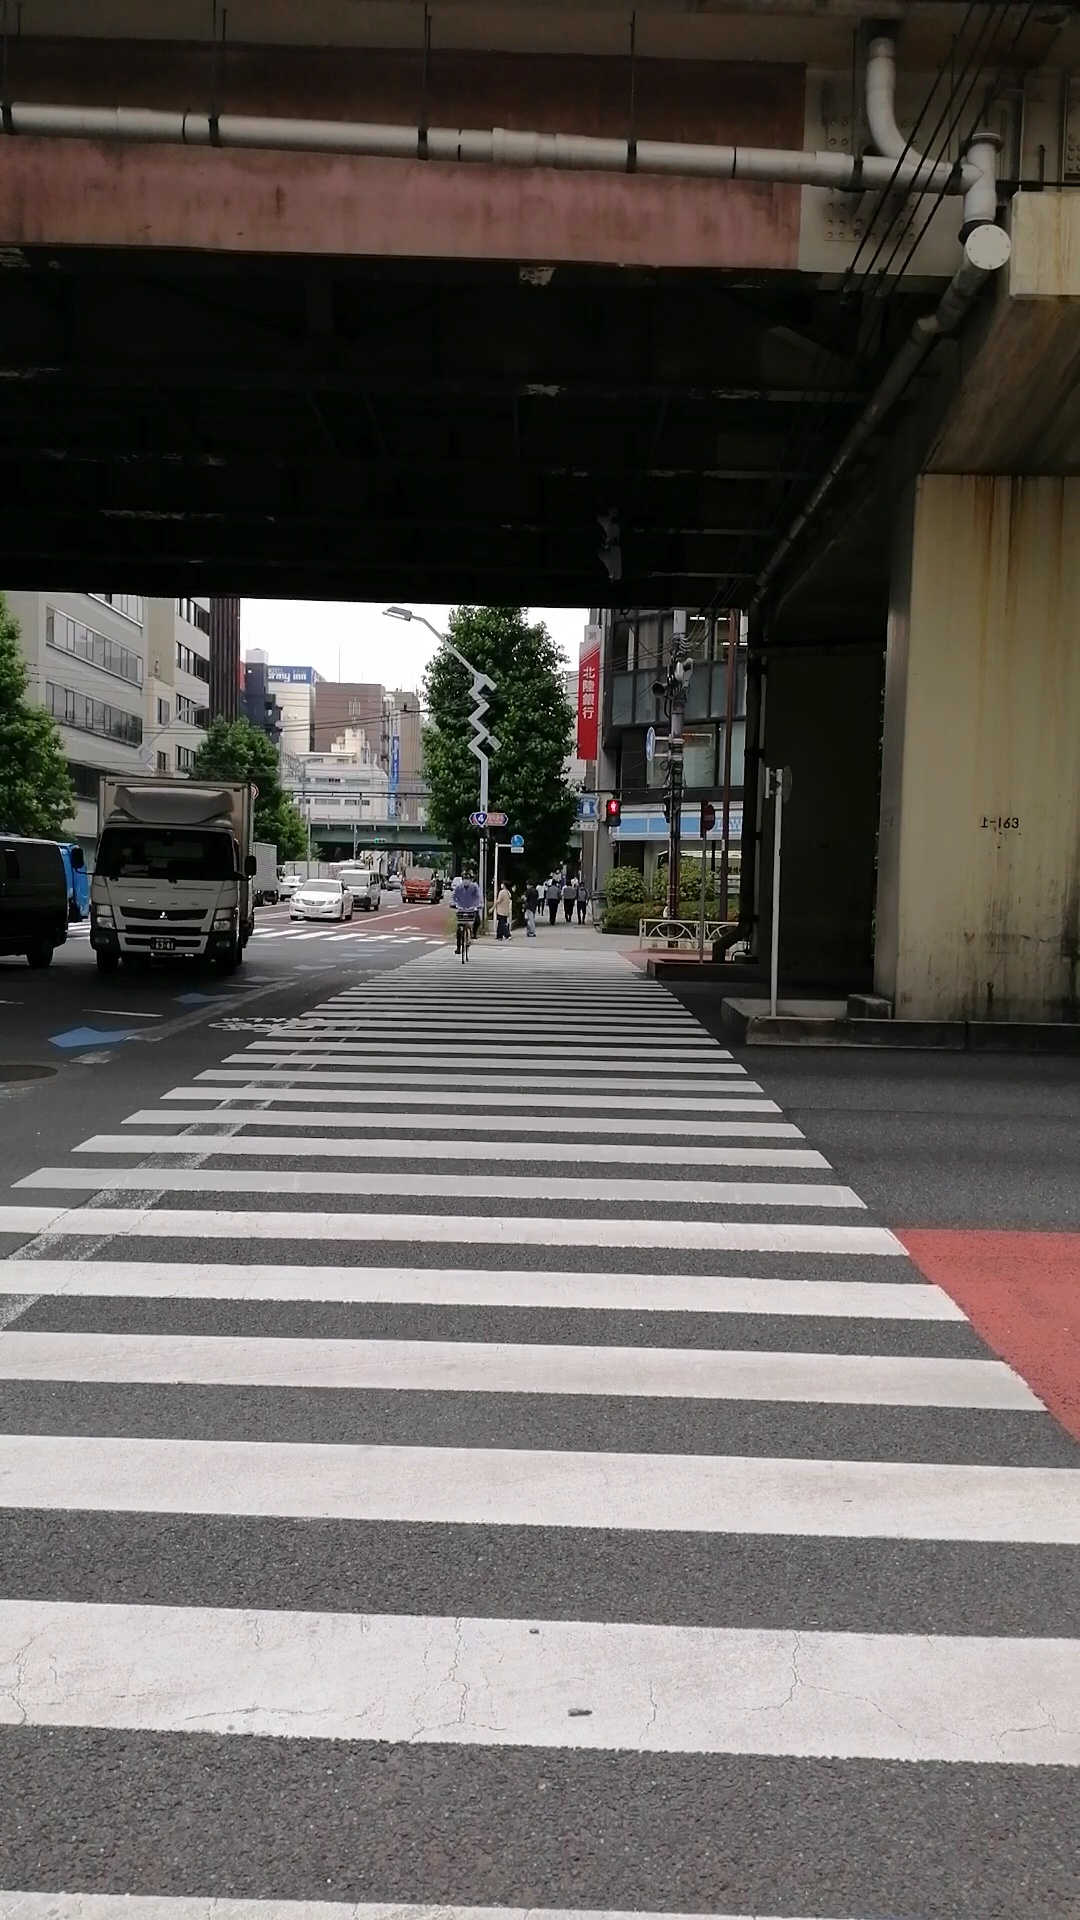red: (605, 799, 621, 827)
